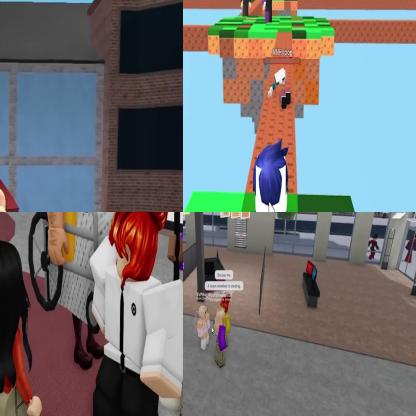Roblox-Avatar: (90, 213, 183, 416), (1, 239, 44, 416), (228, 139, 310, 212), (214, 307, 229, 369), (198, 307, 211, 352)
